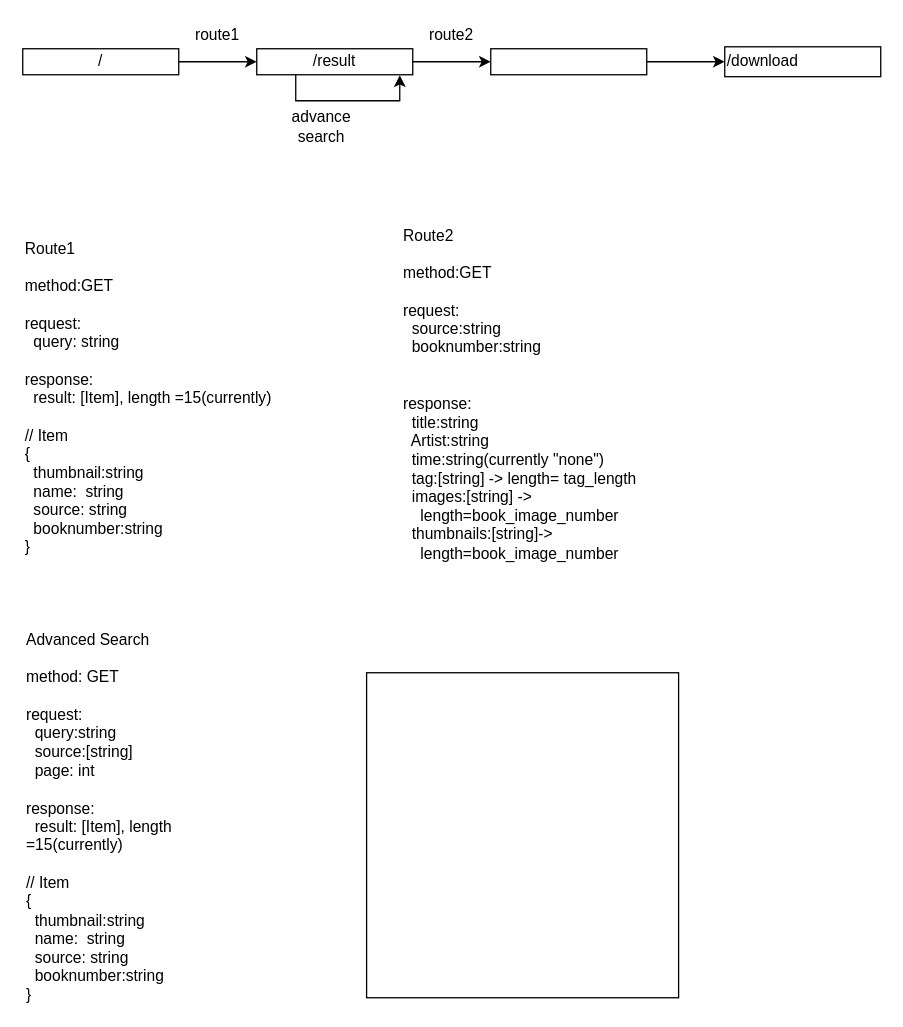
The diagram is 903 pixels wide and 1027 high, and some of its shapes have lost their labels. Each missing label, with the centre of its shape:
/detail: pixel 568 61
nhentai.query("lolicon",1,15,{Object}) Object:{ tag: author: language: }: pixel 522 834
